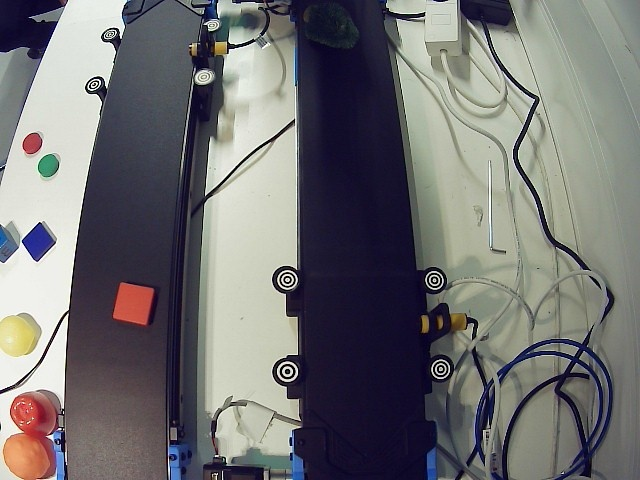Red_Square: (109, 282, 161, 328)
Unknown: (300, 4, 365, 50)
